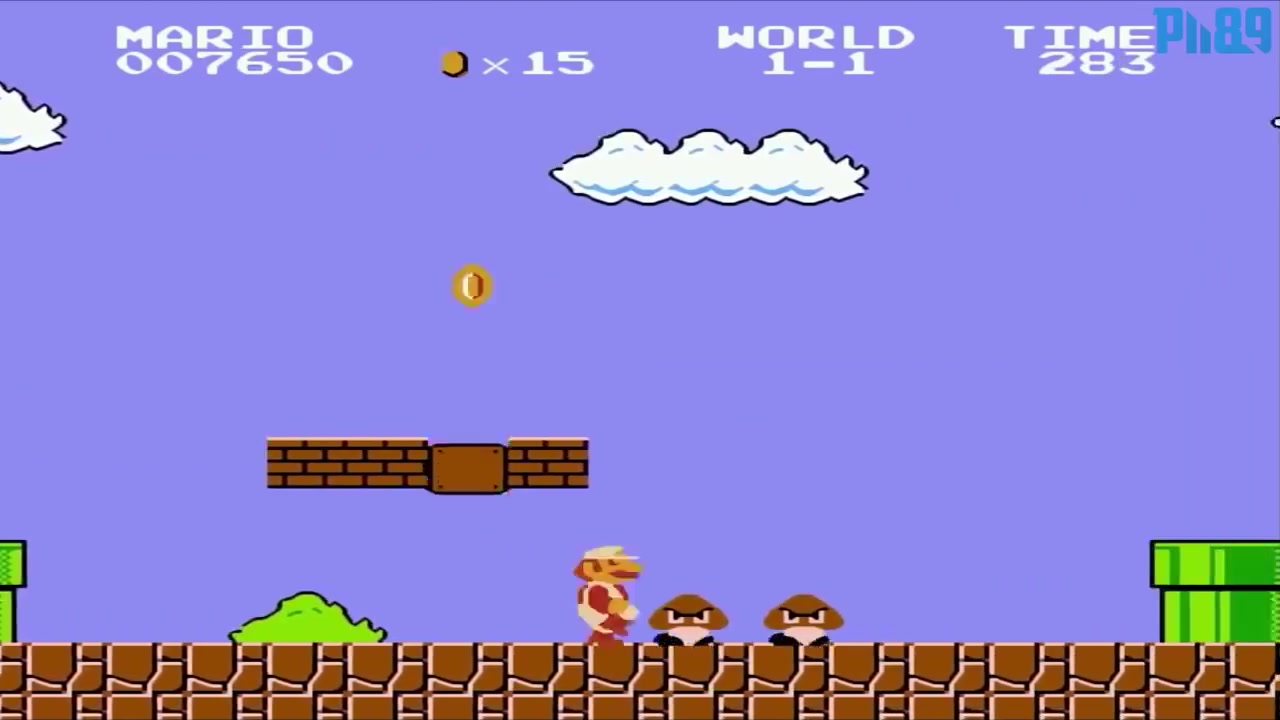mario: (559, 536, 645, 653)
